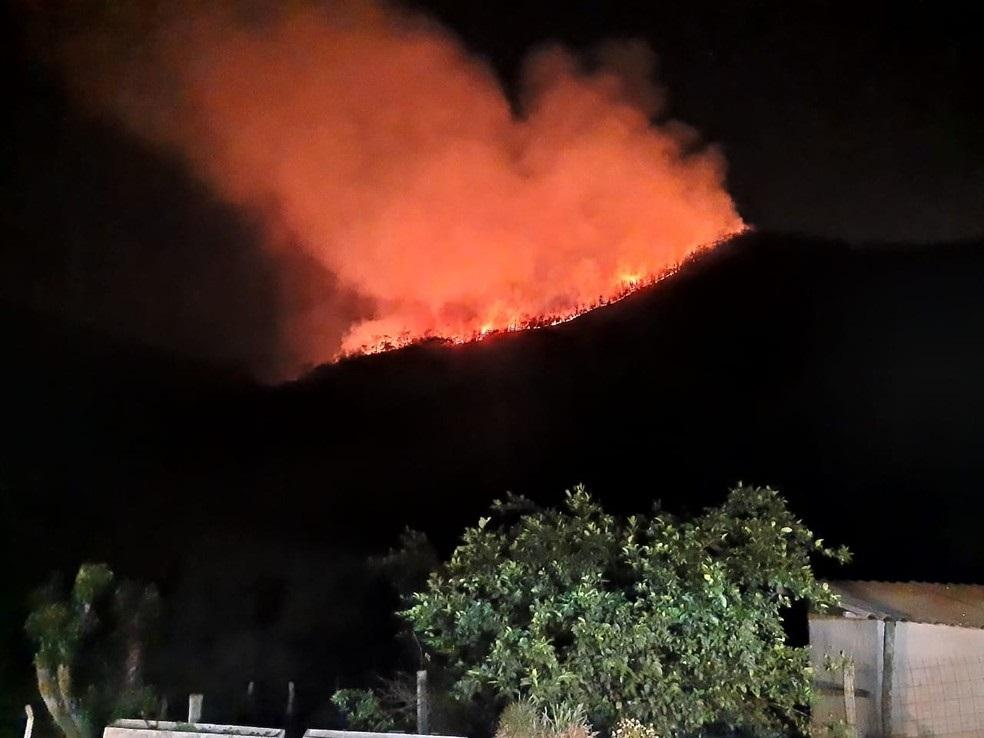fire: (604, 252, 648, 302), (476, 318, 522, 342)
smoke: (328, 128, 618, 238)
